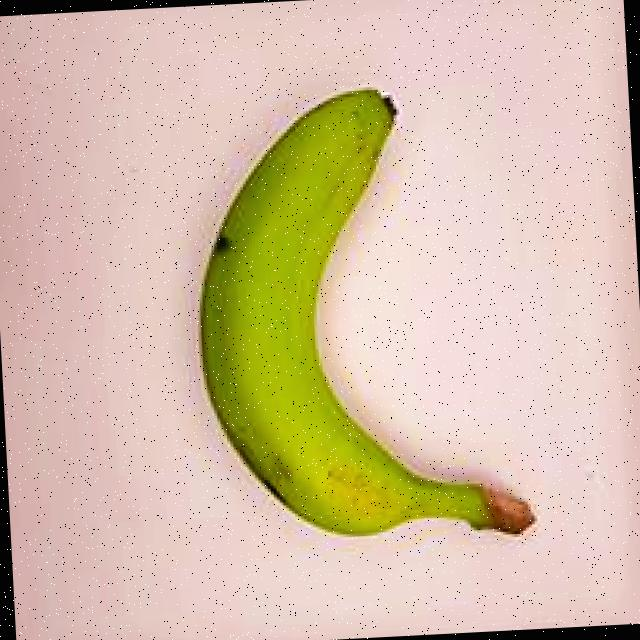Unripe: (174, 55, 563, 580)
